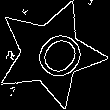O_SW: (17, 20, 84, 87)
